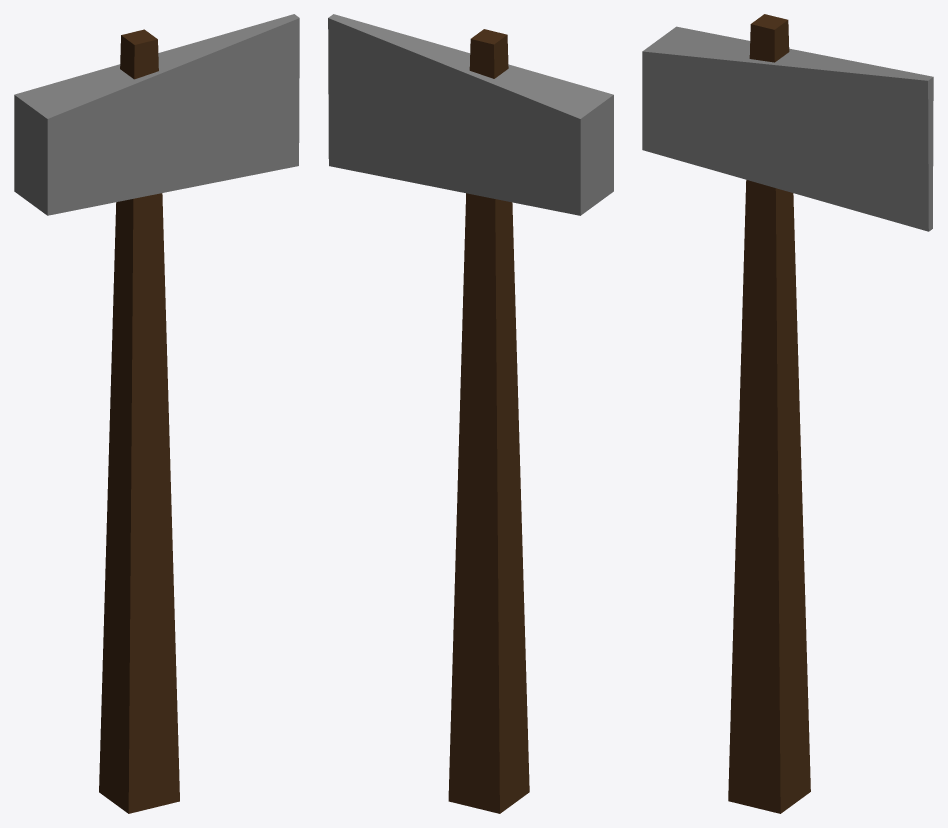
Rendered from axe.fbx.
3 views of the same model, side by side, from view 1: azimuth 30°, elevation 25°; view 2: azimuth 150°, elevation 25°; view 3: azimuth 330°, elevation 25° (orthographic).
Parts seen in each view (by area): view 1: Plane; view 2: Plane; view 3: Plane.
Boxes of the visible parts, box(x1,y1,x2,y2) form: Plane: box(14, 14, 299, 813); Plane: box(328, 14, 613, 813); Plane: box(642, 14, 933, 813).
Bounding box in the file's own units: 300 × 818 × 65.1.
